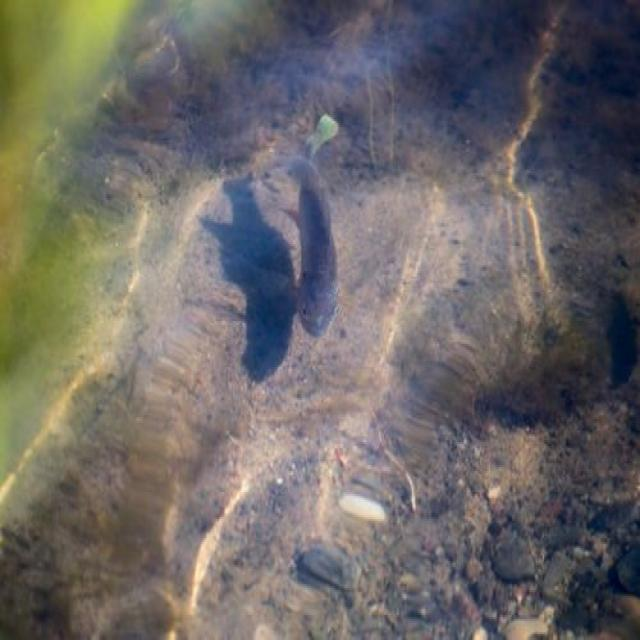Gunes Levregi: (290, 109, 354, 347)
